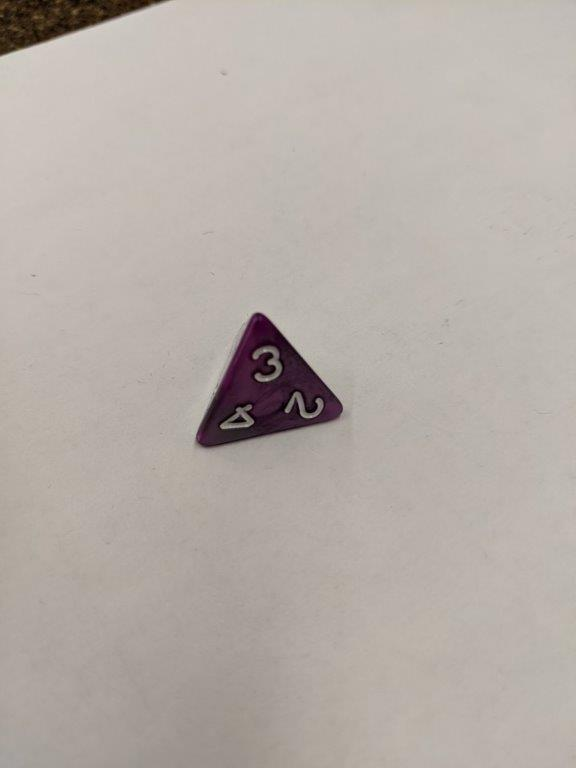d4-3: (188, 307, 346, 454)
